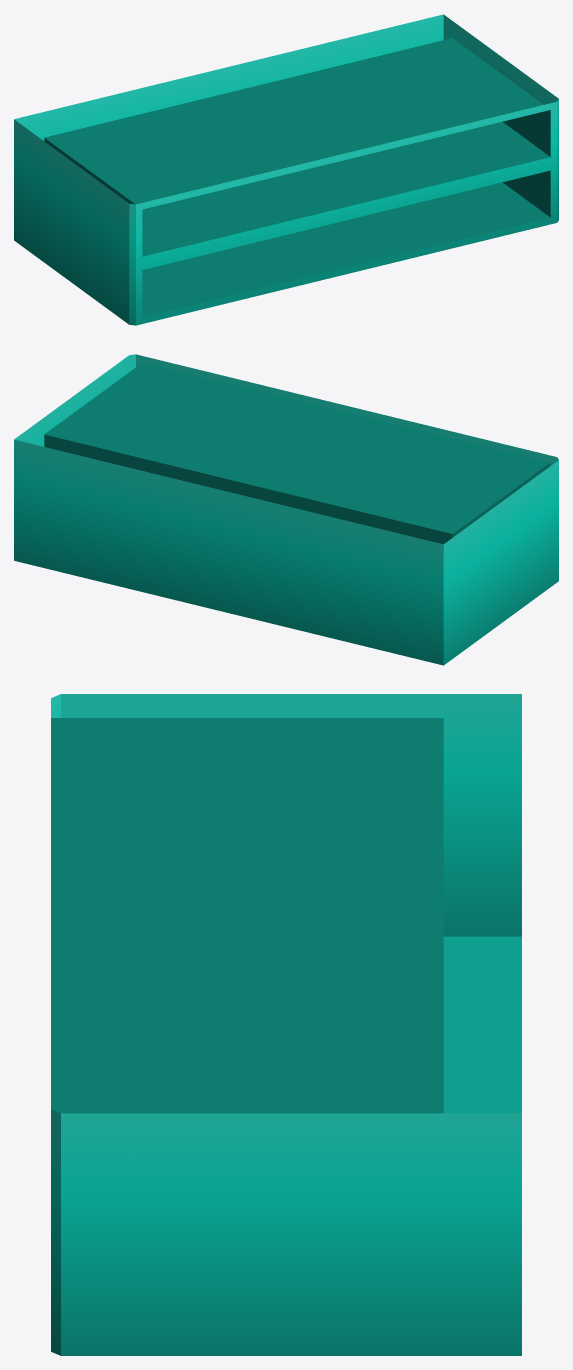
File: Counter_01_v07_D_C05.fbx
3 renders of one model, top to bottom at view 1: azimuth 30°, elevation 25°; view 2: azimuth 150°, elevation 25°; view 3: azimuth 270°, elevation 25°, orthographic. The views are drawn at different scales.
Parts seen in each view (by area): view 1: Counter_01_v07_D_C05; view 2: Counter_01_v07_D_C05; view 3: Counter_01_v07_D_C05.
Part boxes in pixels (x1=…): Counter_01_v07_D_C05: x1=14, y1=14, x2=558, y2=325; Counter_01_v07_D_C05: x1=14, y1=354, x2=558, y2=665; Counter_01_v07_D_C05: x1=51, y1=694, x2=521, y2=1355.
Size of the model in its own units: 200 by 53.91 by 94.97.
